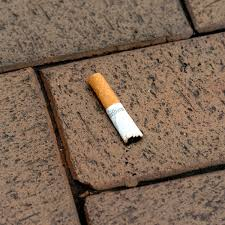cigarette: (85, 70, 145, 146)
